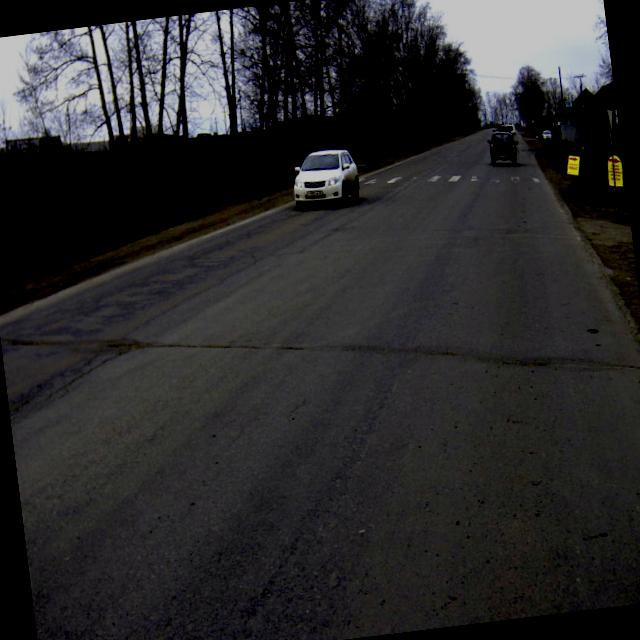road: (0, 128, 640, 640)
